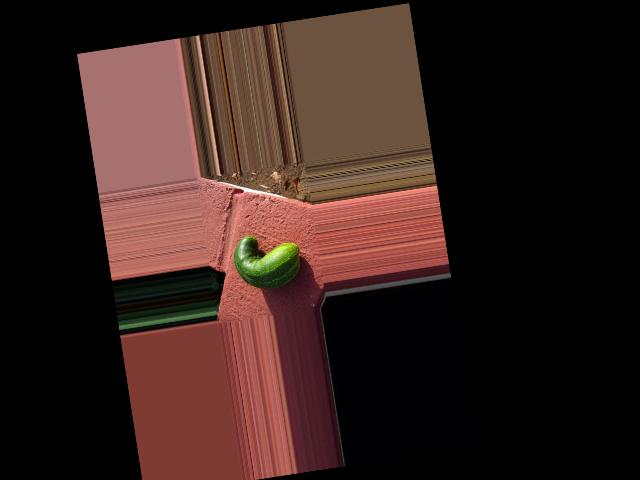cucumber: (230, 227, 304, 293)
